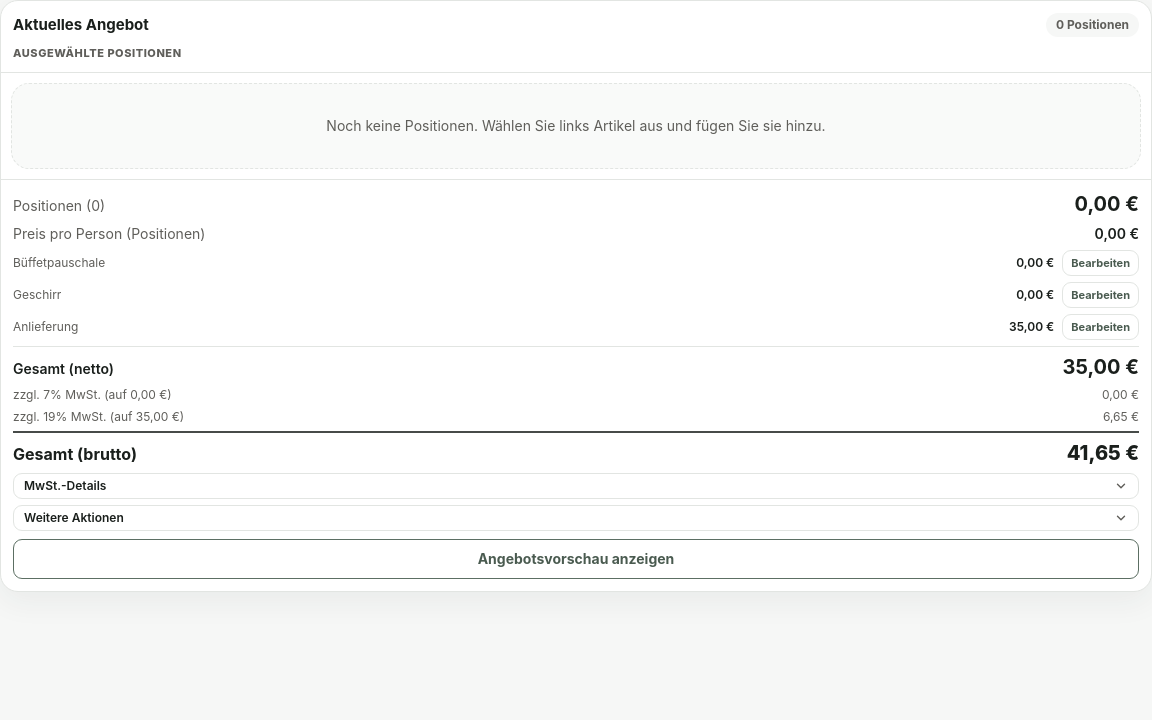
it: OfferSummary — VAT notice disclosure › expands to reveal the full legal wording when the summary is activated
This screenshot has width=1152, height=720.
Click the heading "MwSt.-Details". click: coordinates (65, 485)
box: top-left (14, 474), bottom-right (1138, 498)
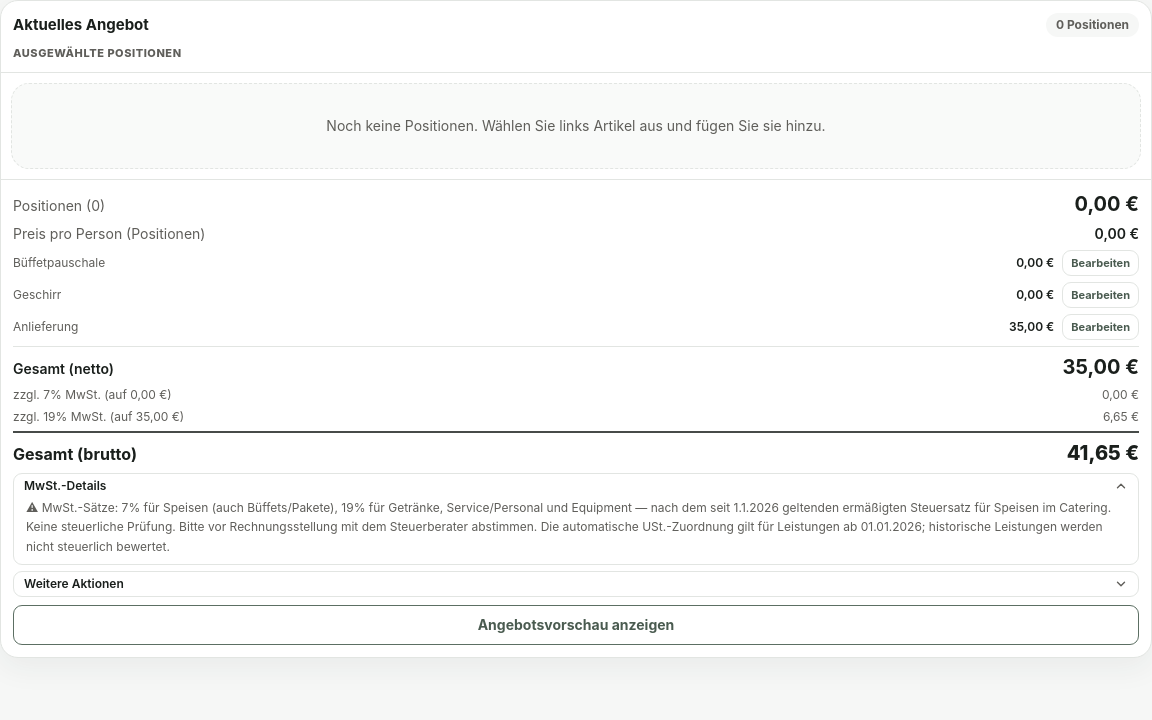
Now the text "historische Leistungen werden nicht steuerlich bewertet" is shown, box top-left (26, 500), bottom-right (1111, 554)
